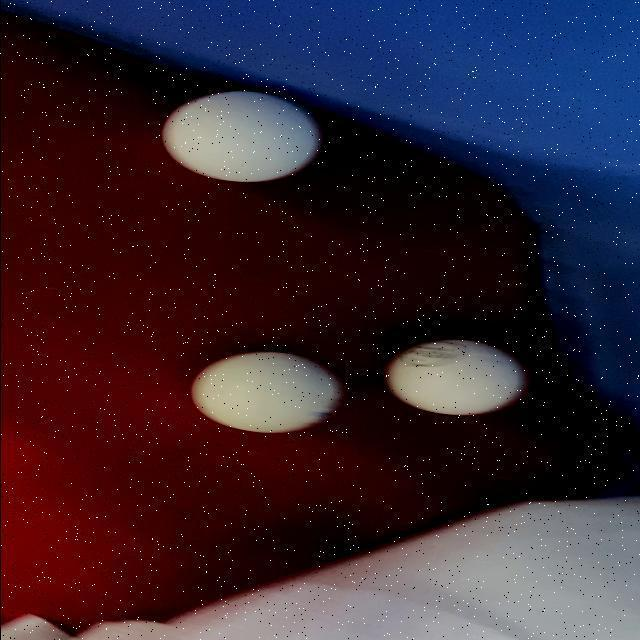ping-pong-ball: (160, 86, 333, 188), (185, 342, 356, 436), (382, 338, 534, 422)
